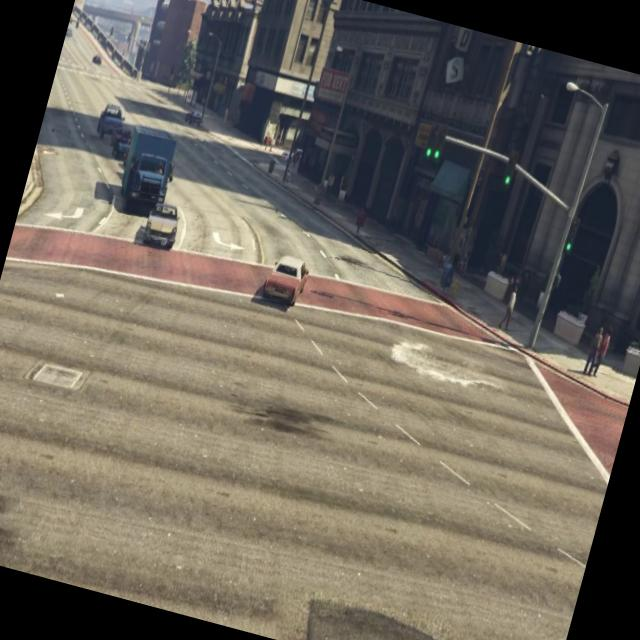Green-Signal: (416, 113, 454, 178), (496, 138, 528, 198), (556, 212, 584, 269)
